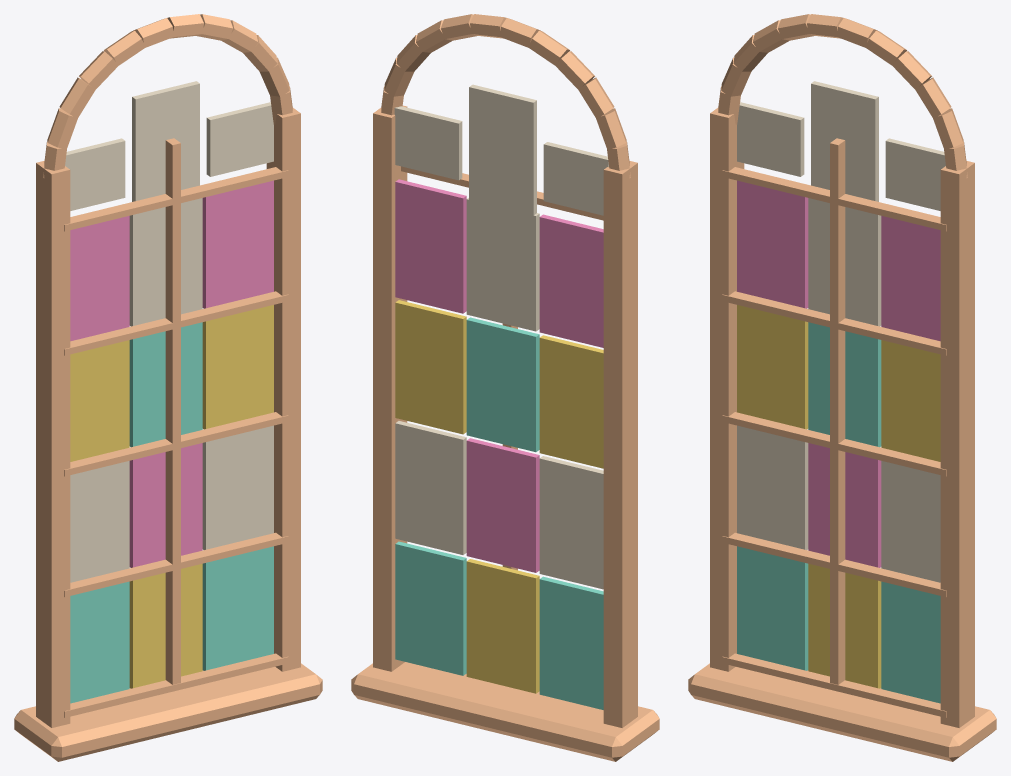
The picture shows the model from 3 angles, left to right: view 1: azimuth 30°, elevation 25°; view 2: azimuth 150°, elevation 25°; view 3: azimuth 330°, elevation 25°; orthographic projection.
Visible parts, largest first — view 1: Arched window side, Arched window side.001, Panel base, Window mullion, Colored glass tile.011, Colored glass tile.008, Colored glass tile.009, Colored glass tile.010, Arch infill.001, Colored glass tile.003, Colored glass tile.002, Colored glass tile (+23 smaller); view 2: Arched window side, Panel base, Arched window side.001, Colored glass tile.004, Colored glass tile.005, Colored glass tile.006, Colored glass tile.007, Colored glass tile.011, Colored glass tile.008, Colored glass tile.010, Colored glass tile.009, Arch infill.001 (+18 smaller); view 3: Arched window side.001, Arched window side, Panel base, Window mullion, Colored glass tile.003, Colored glass tile, Colored glass tile.001, Colored glass tile.002, Arch infill.001, Colored glass tile.011, Colored glass tile.010, Colored glass tile.008 (+23 smaller).
Boxes of the visible parts, x1,y1,x2,y2 form: Arched window side: [36, 160, 70, 727]; Arched window side.001: [266, 107, 300, 671]; Panel base: [14, 663, 322, 761]; Window mullion: [165, 138, 180, 684]; Colored glass tile.011: [202, 180, 273, 308]; Colored glass tile.008: [202, 546, 273, 670]; Colored glass tile.009: [202, 425, 273, 549]; Colored glass tile.010: [202, 305, 273, 429]; Arch infill.001: [132, 81, 199, 233]; Colored glass tile.003: [70, 216, 129, 341]; Colored glass tile.002: [70, 340, 129, 461]; Colored glass tile: [70, 581, 129, 703]; Arched window side: [603, 160, 637, 727]; Panel base: [351, 662, 659, 761]; Arched window side.001: [373, 105, 407, 671]; Colored glass tile.004: [466, 559, 539, 693]; Colored glass tile.005: [466, 438, 539, 572]; Colored glass tile.006: [466, 317, 539, 452]; Colored glass tile.007: [466, 198, 539, 331]; Colored glass tile.011: [395, 179, 466, 313]; Colored glass tile.008: [395, 541, 466, 675]; Colored glass tile.010: [395, 300, 466, 434]; Colored glass tile.009: [395, 421, 466, 554]; Arch infill.001: [469, 84, 536, 227]; Arched window side.001: [940, 160, 974, 727]; Arched window side: [710, 107, 744, 671]; Panel base: [688, 663, 996, 761]; Window mullion: [830, 138, 845, 684]; Colored glass tile.003: [737, 180, 808, 308]; Colored glass tile: [737, 546, 808, 670]; Colored glass tile.001: [737, 425, 808, 549]; Colored glass tile.002: [737, 305, 808, 429]; Arch infill.001: [811, 81, 878, 233]; Colored glass tile.011: [881, 216, 940, 341]; Colored glass tile.010: [881, 340, 940, 461]; Colored glass tile.008: [881, 581, 940, 703].
Size of the model in its own units: 80 by 197 by 23.
